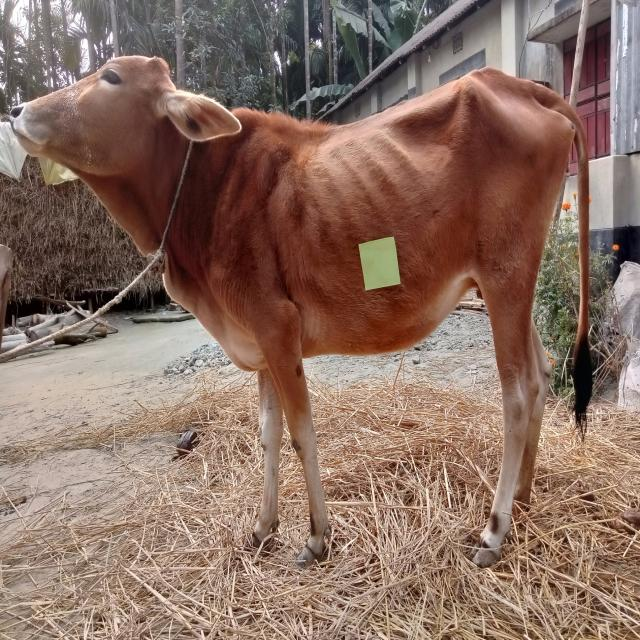badan_sapi: (250, 107, 570, 352)
sapi: (9, 41, 595, 574)
